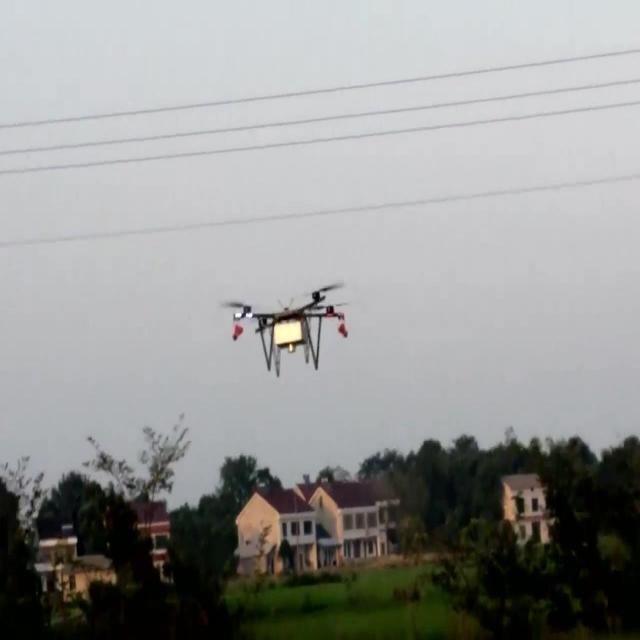UAV: (220, 282, 348, 379)
